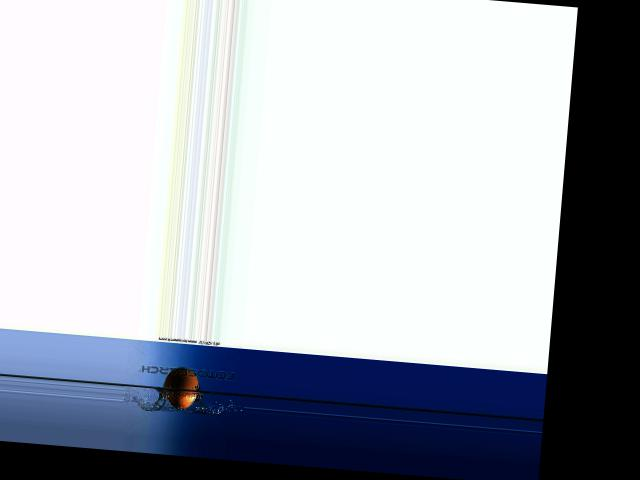egg: (161, 366, 199, 410)
